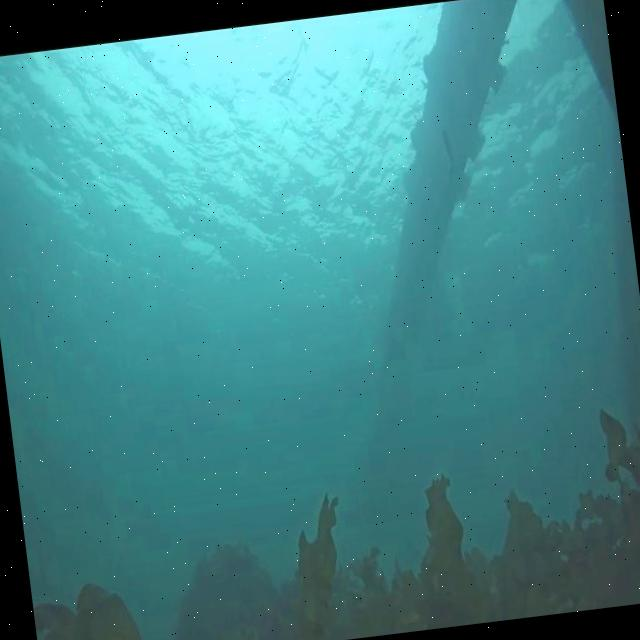fish: (440, 128, 456, 178)
